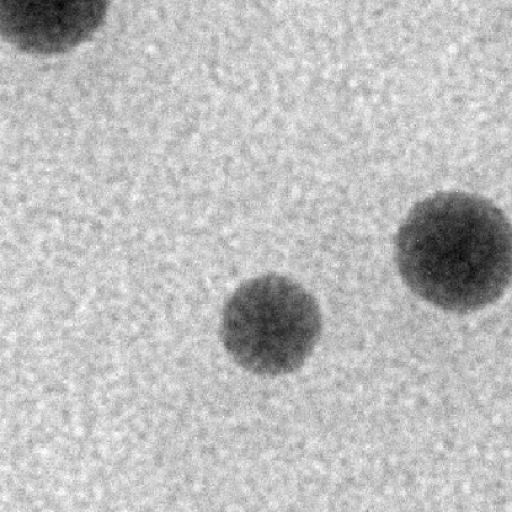Nanoparticles: (390, 188, 512, 312), (218, 270, 326, 378), (2, 0, 106, 54)
